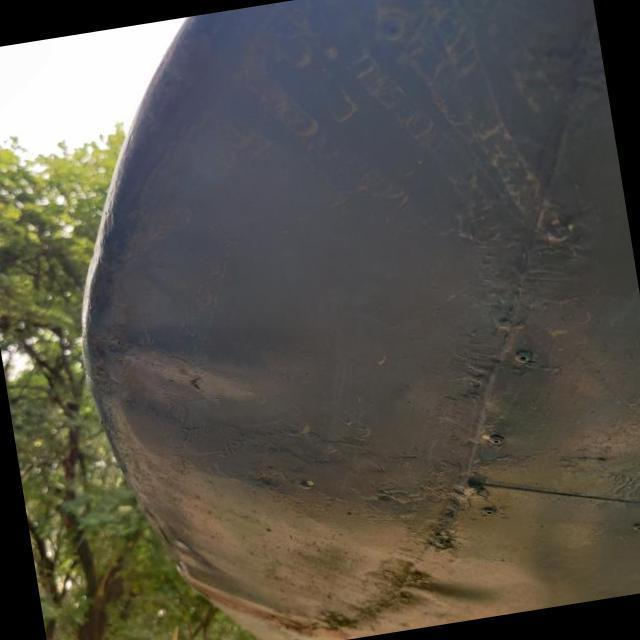Dent: (81, 283, 302, 516), (388, 512, 543, 631)
